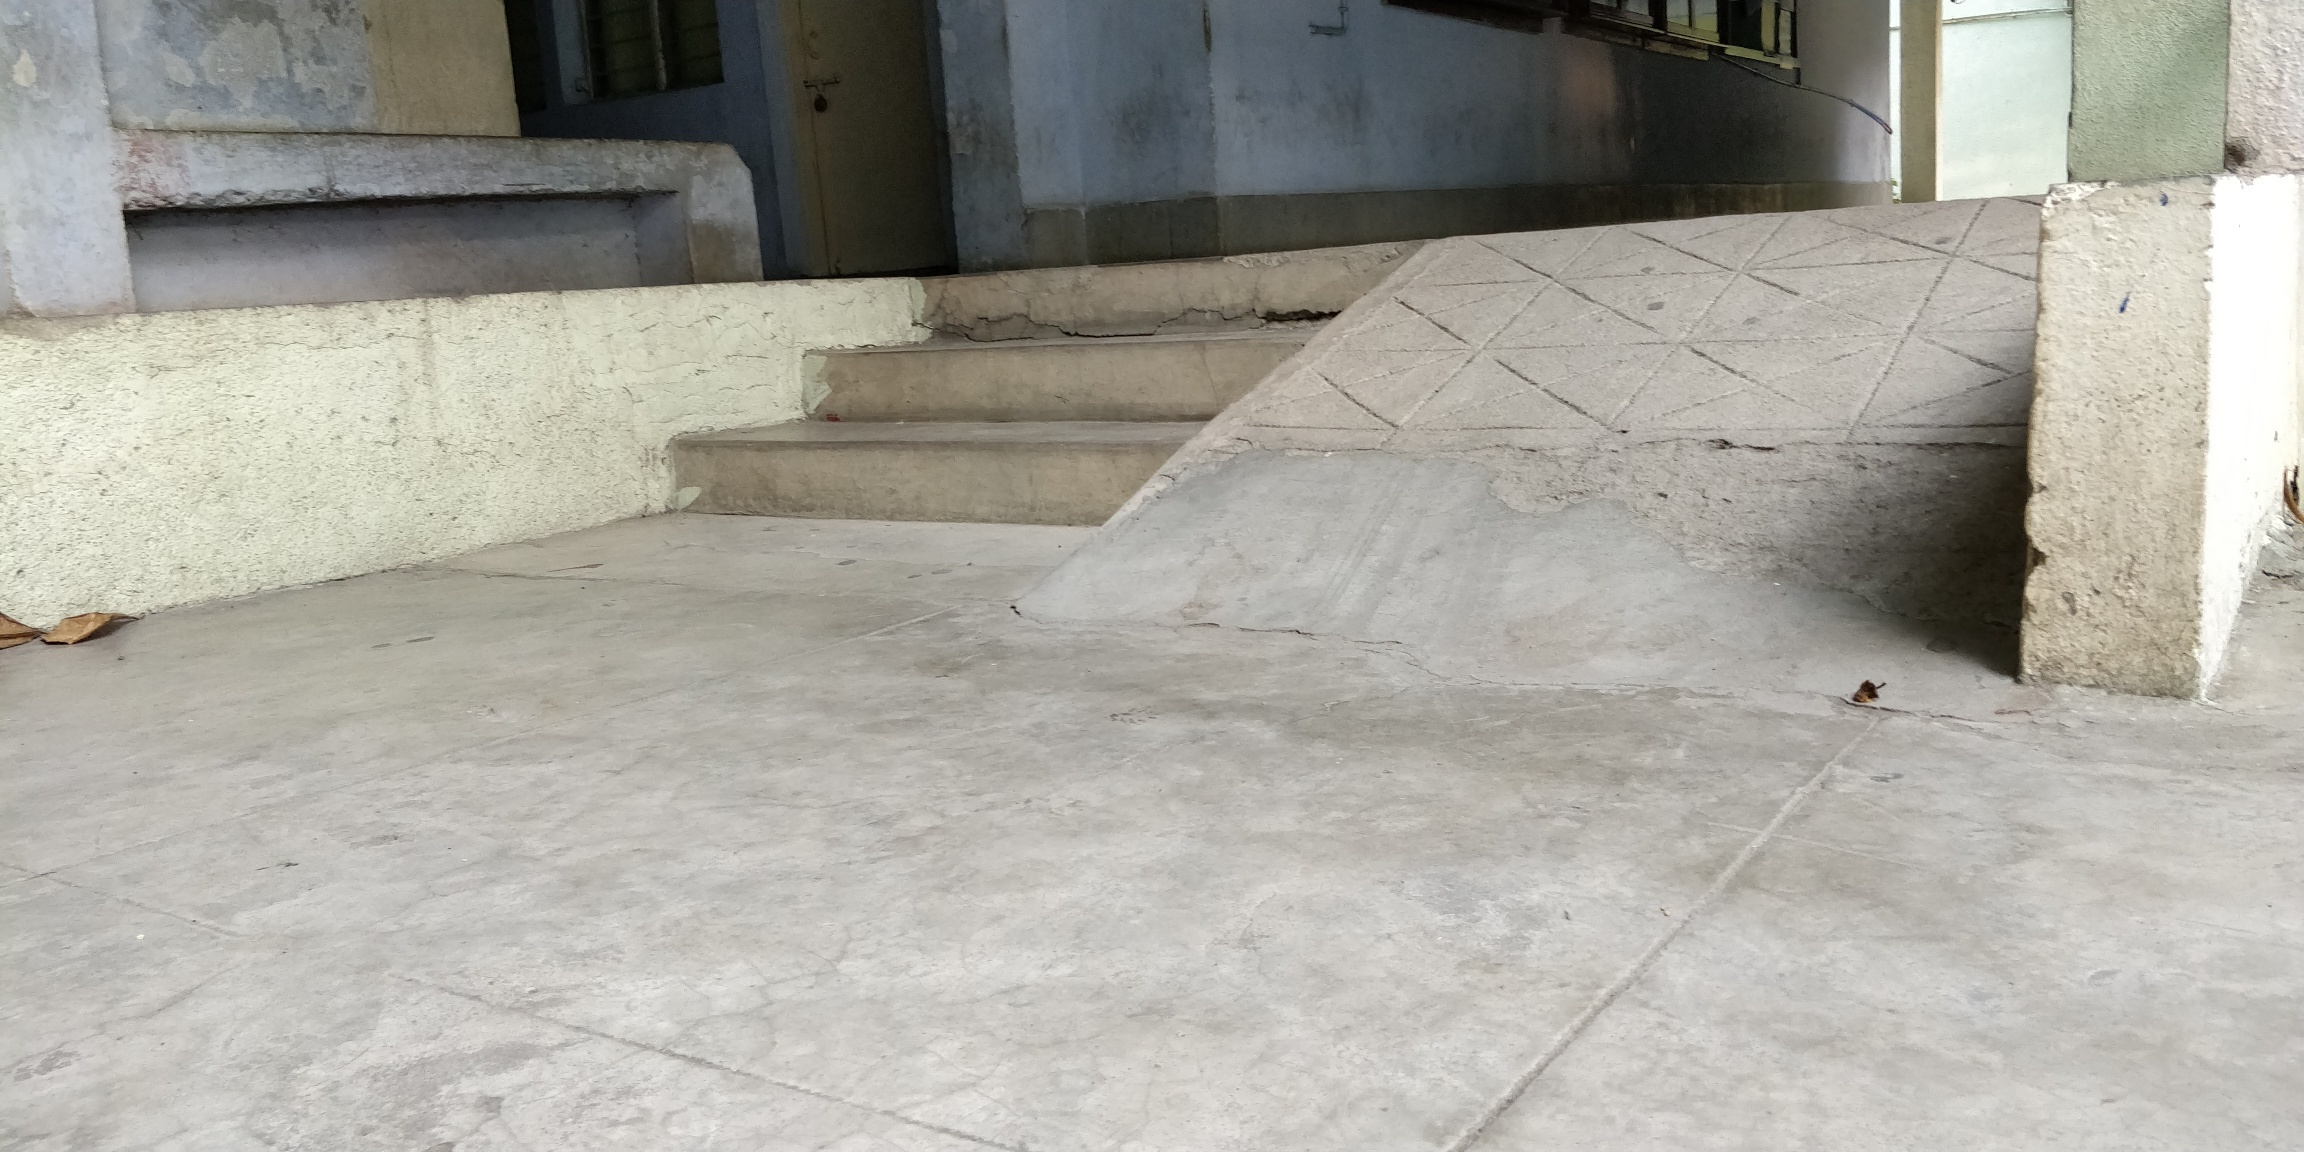stairs_up: (667, 220, 1378, 550)
